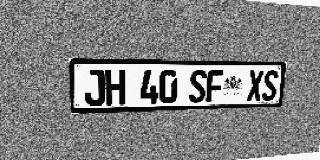0: (159, 70, 178, 104)
4: (140, 70, 159, 104)
F: (206, 70, 224, 102)
H: (105, 70, 125, 105)
J: (84, 69, 105, 106)
S: (189, 70, 207, 103), (262, 70, 279, 101)
X: (247, 70, 264, 101)
